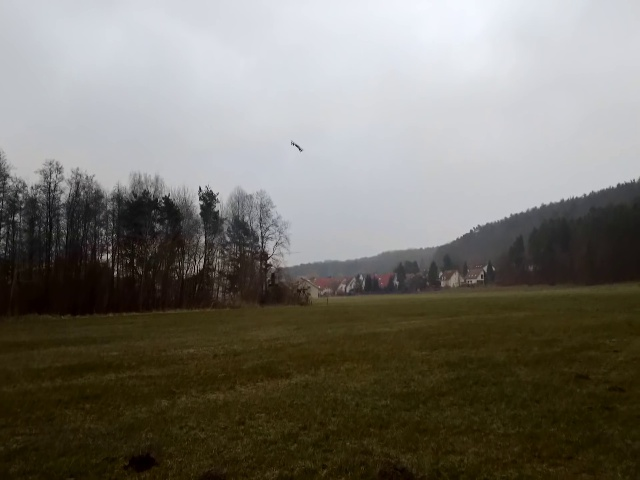drone: (288, 137, 305, 154)
